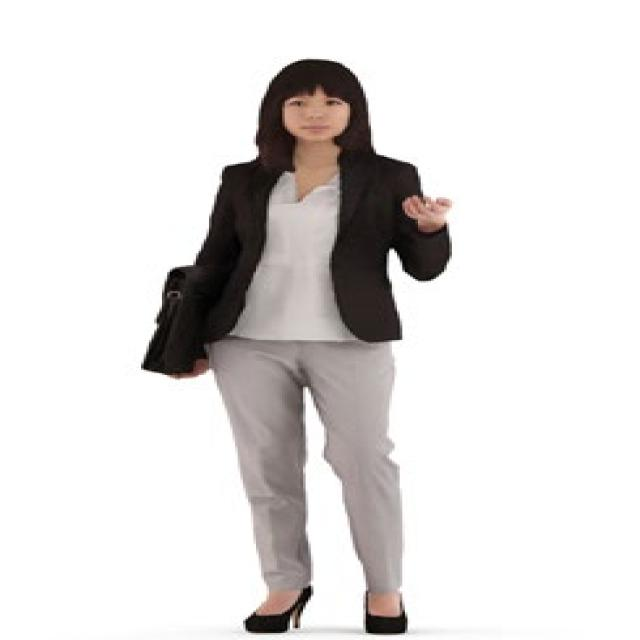running: (171, 56, 463, 636)
